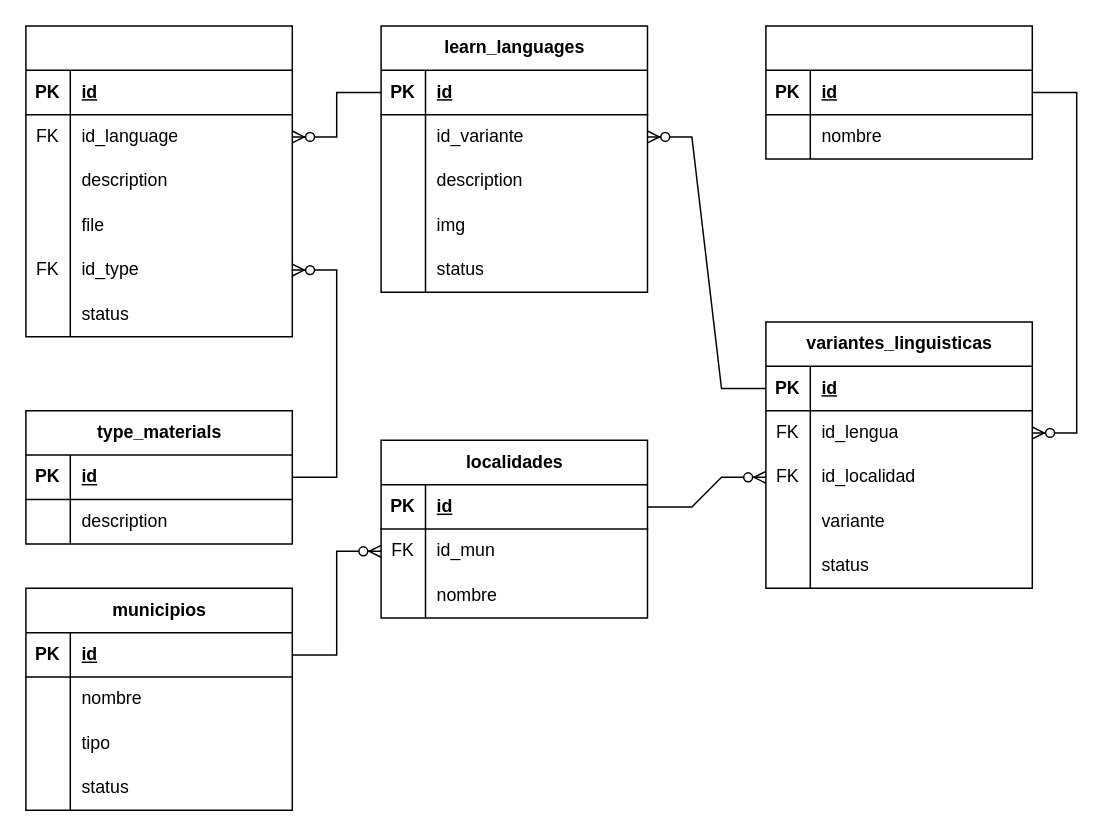
Image size: 1114x836. Some labels were removed from this diagram. The shapes that lost their labels are listed below. From the top down, each one's box as (x1, y1, x2, y2) in pixels, then its label:
(764, 24, 1032, 159): lenguas
(24, 24, 292, 337): learn_materials
